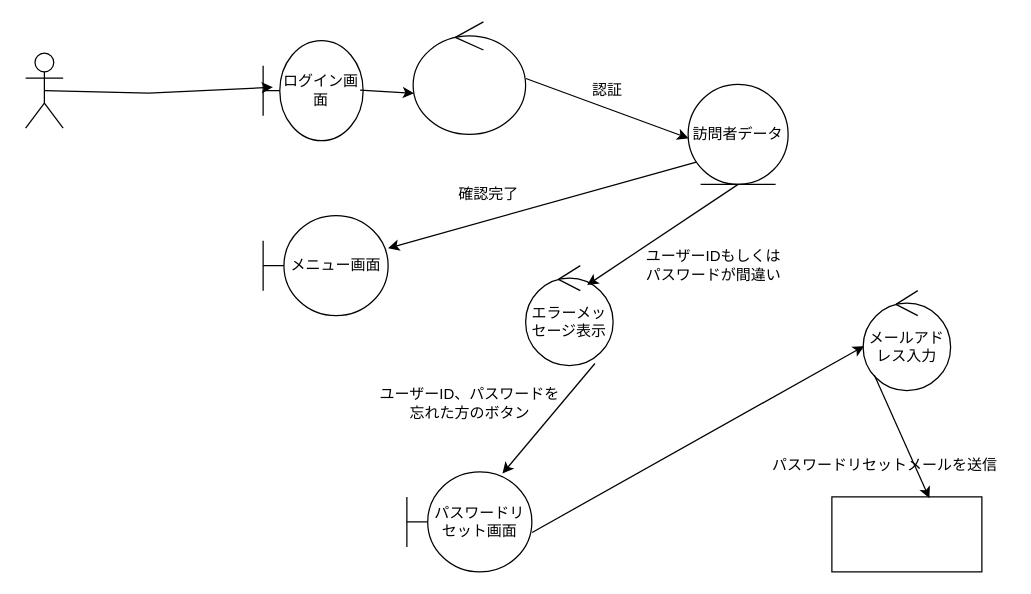
Image size: 1031x594. Some labels were removed from this diagram. Here are the shapes that lost their labels. From the top down, the centre of each, then its label:
(x=43, y=90): 訪問者
(x=469, y=77): ユーザーID パスワード 入力
(x=906, y=534): メール
